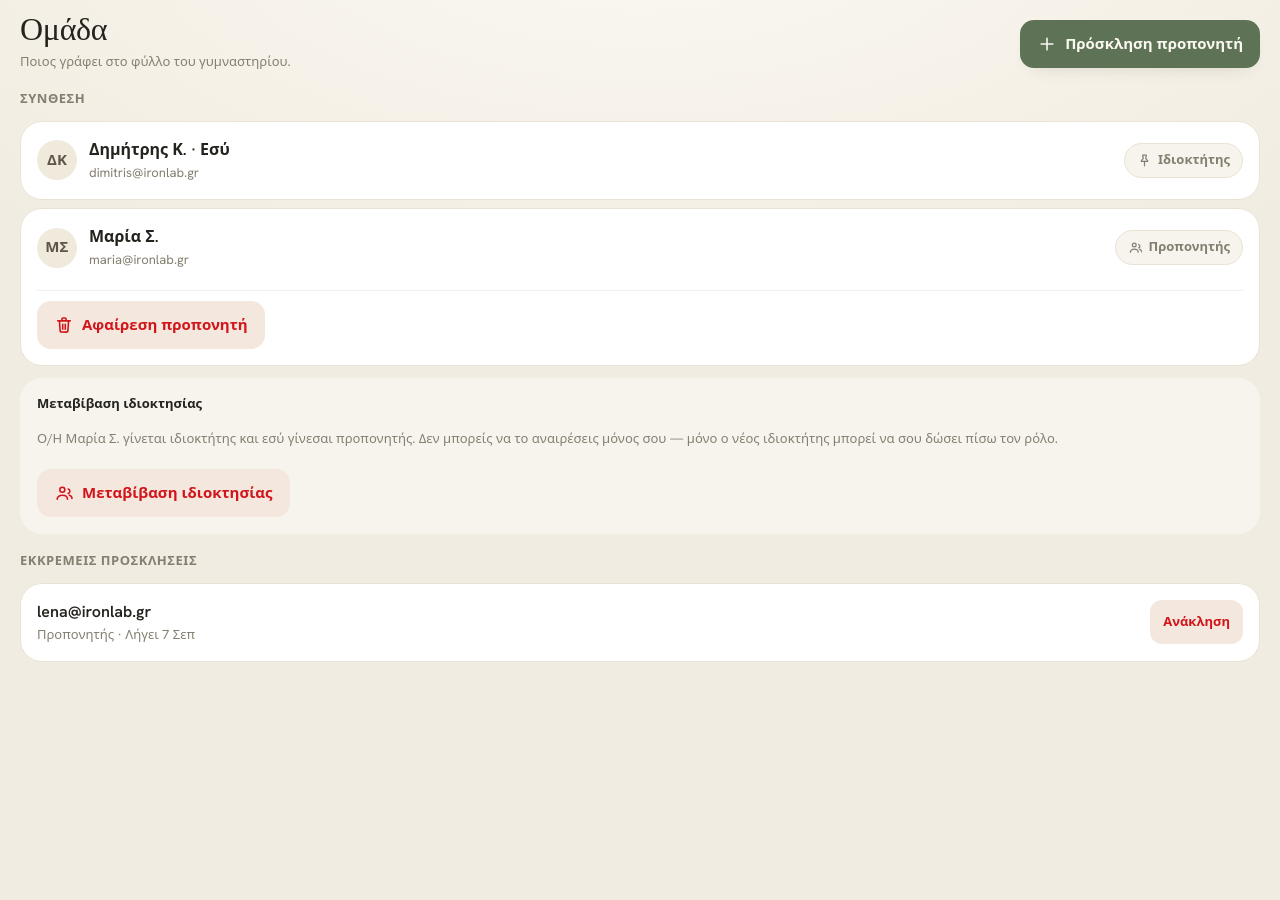
Test: the pending list › lets an owner revoke, and shows a trainer the same actions disabled with a reason
Step 1. Click the button "Ανάκληση" → (1197, 622), box [1150,600,1243,644]
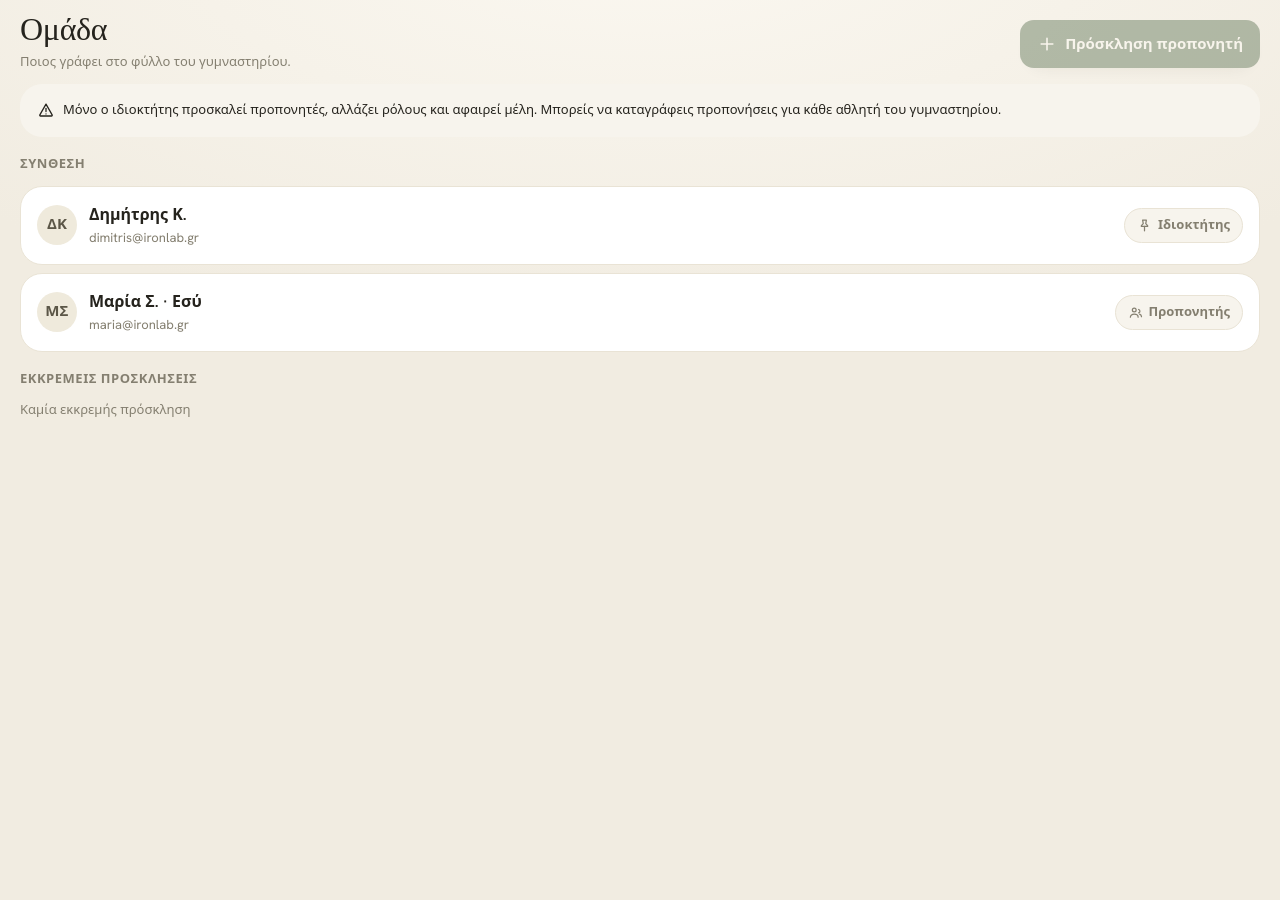
Expected: the text "lena@ironlab.gr" is gone
Expected: the button "Πρόσκληση προπονητή" is disabled, [1020,20,1260,68]
